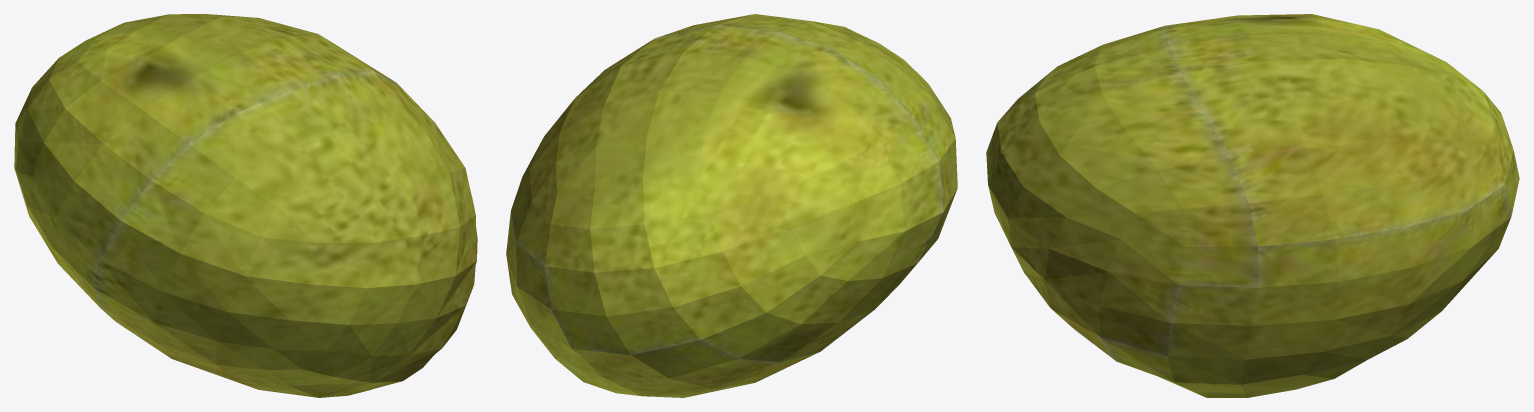
Rendered from pear_apple_3.glb.
The picture shows the model from 3 angles, left to right: view 1: azimuth 30°, elevation 25°; view 2: azimuth 150°, elevation 25°; view 3: azimuth 270°, elevation 25°; orthographic projection. The views are drawn at different scales.
Parts seen in each view (by area): view 1: pear_apple_3; view 2: pear_apple_3; view 3: pear_apple_3.
Boxes of the visible parts, left/top/right/bottom form: pear_apple_3: left=14, top=14, right=477, bottom=397; pear_apple_3: left=506, top=14, right=957, bottom=397; pear_apple_3: left=986, top=14, right=1519, bottom=397.
Size of the model in its own units: 0.1875 by 0.1622 by 0.252.
1 material, 1 textured.
